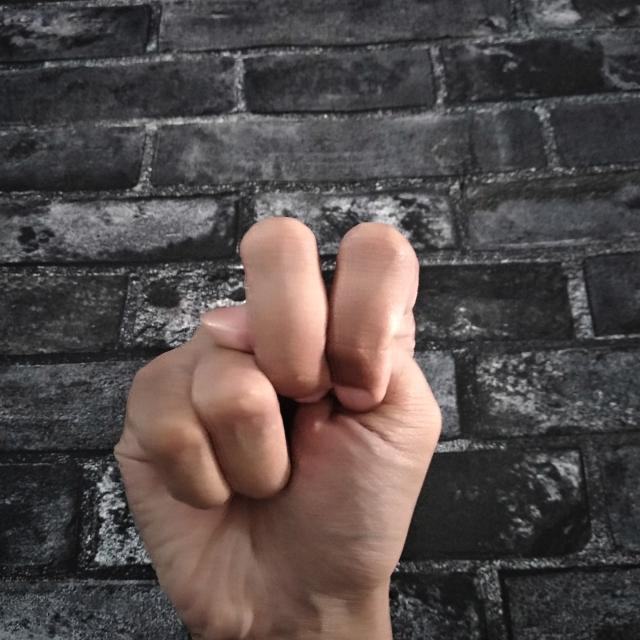N: (110, 202, 447, 640)
